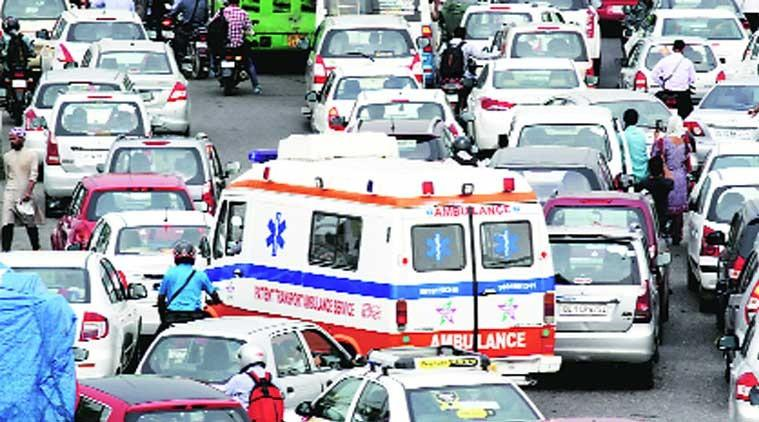ambulance: (214, 141, 545, 350)
